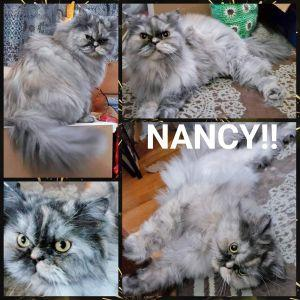persian: (122, 7, 189, 71)
